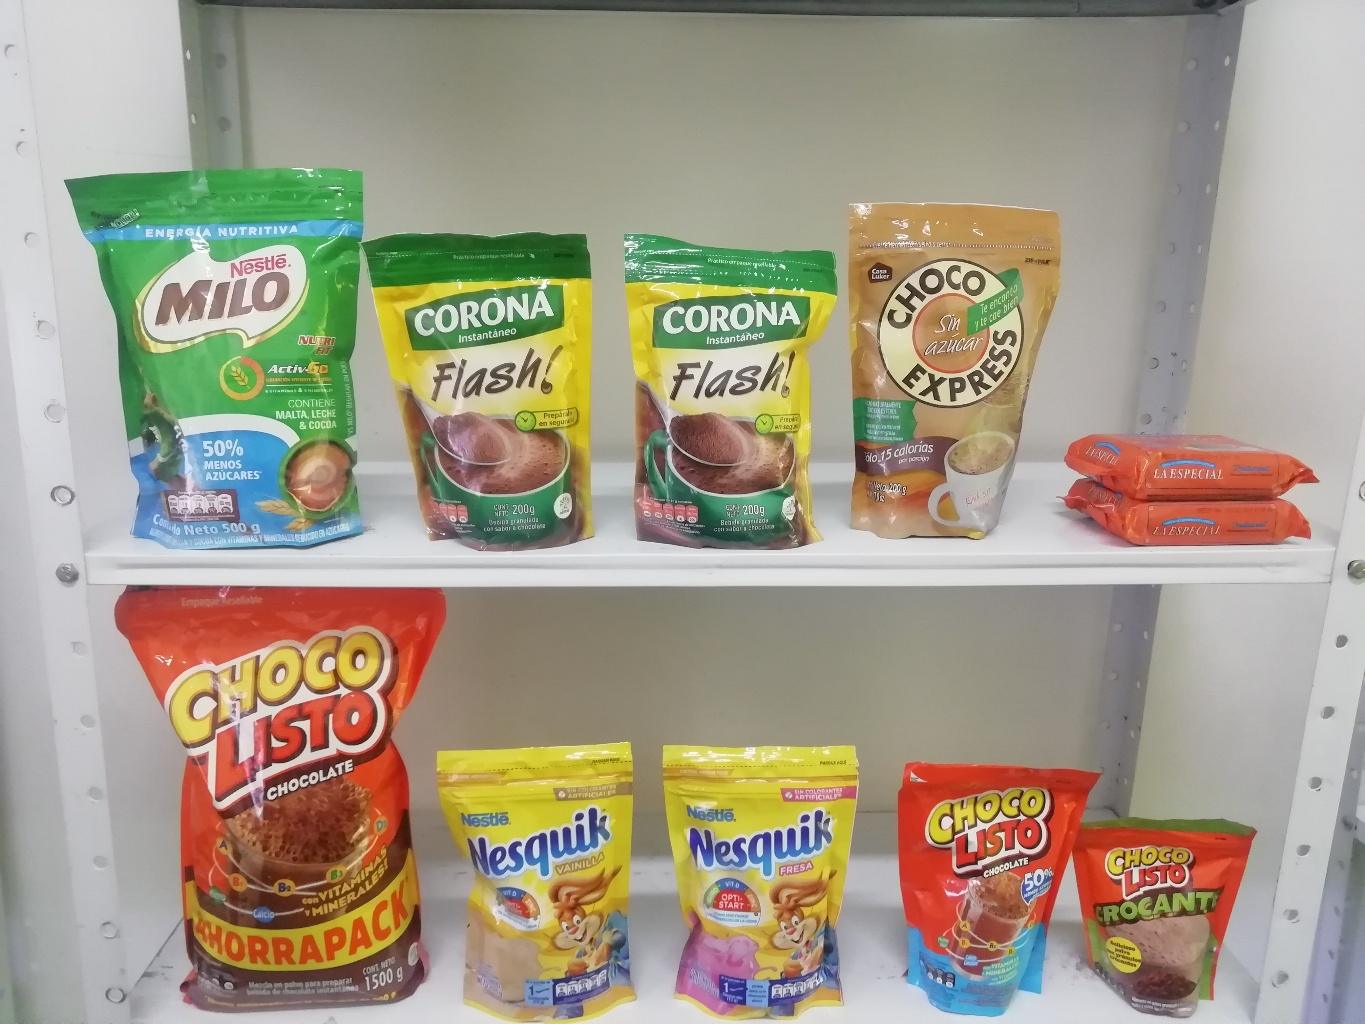COL0170102DYP10000: (1062, 809, 1264, 1019)
COL0170103DYP1,500: (101, 578, 446, 1014)
COL0170104DYP20000: (901, 757, 1105, 1016)
COL0170205DYP50000: (58, 163, 381, 553)
COL0170305DYP20000: (659, 740, 865, 1022)
COL0170306DYP20000: (431, 741, 658, 1019)
